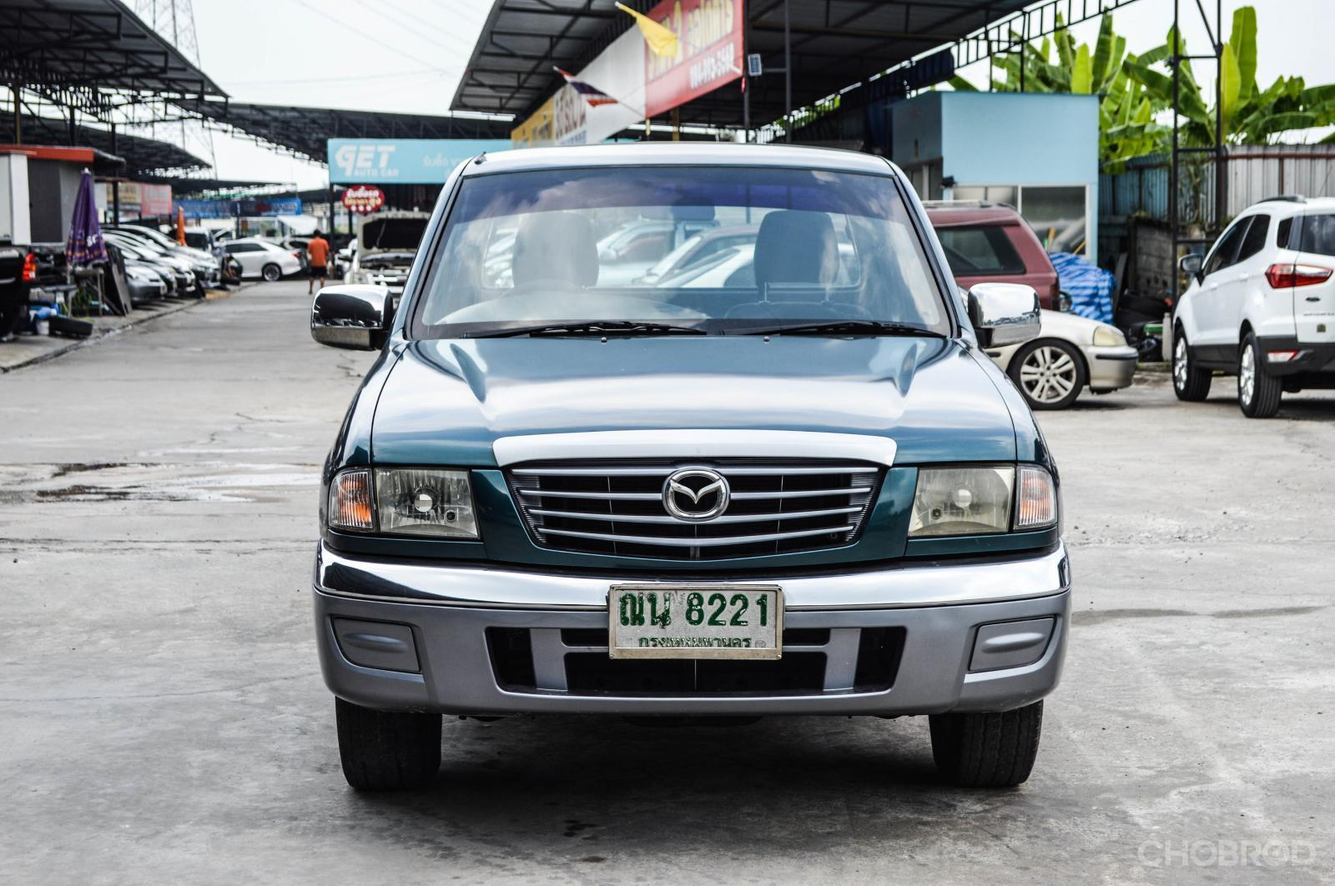license-plate: (607, 581, 785, 662)
